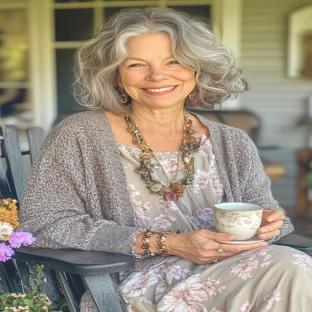Human: (20, 8, 312, 312)
